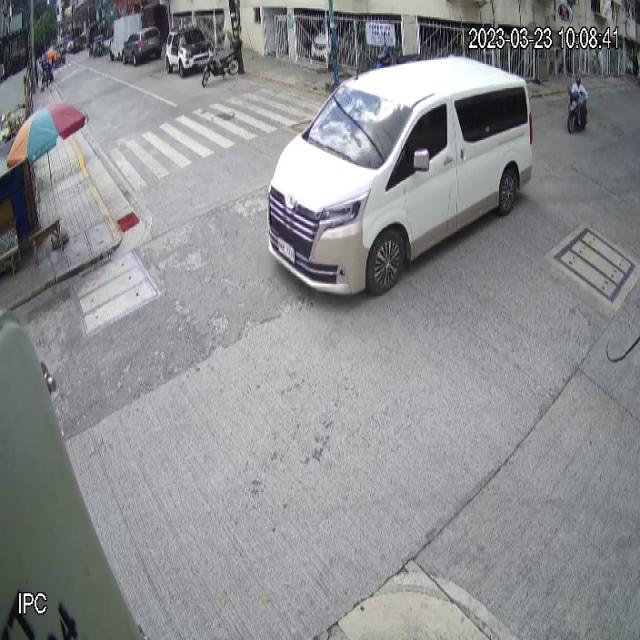Van: (266, 56, 534, 299)
